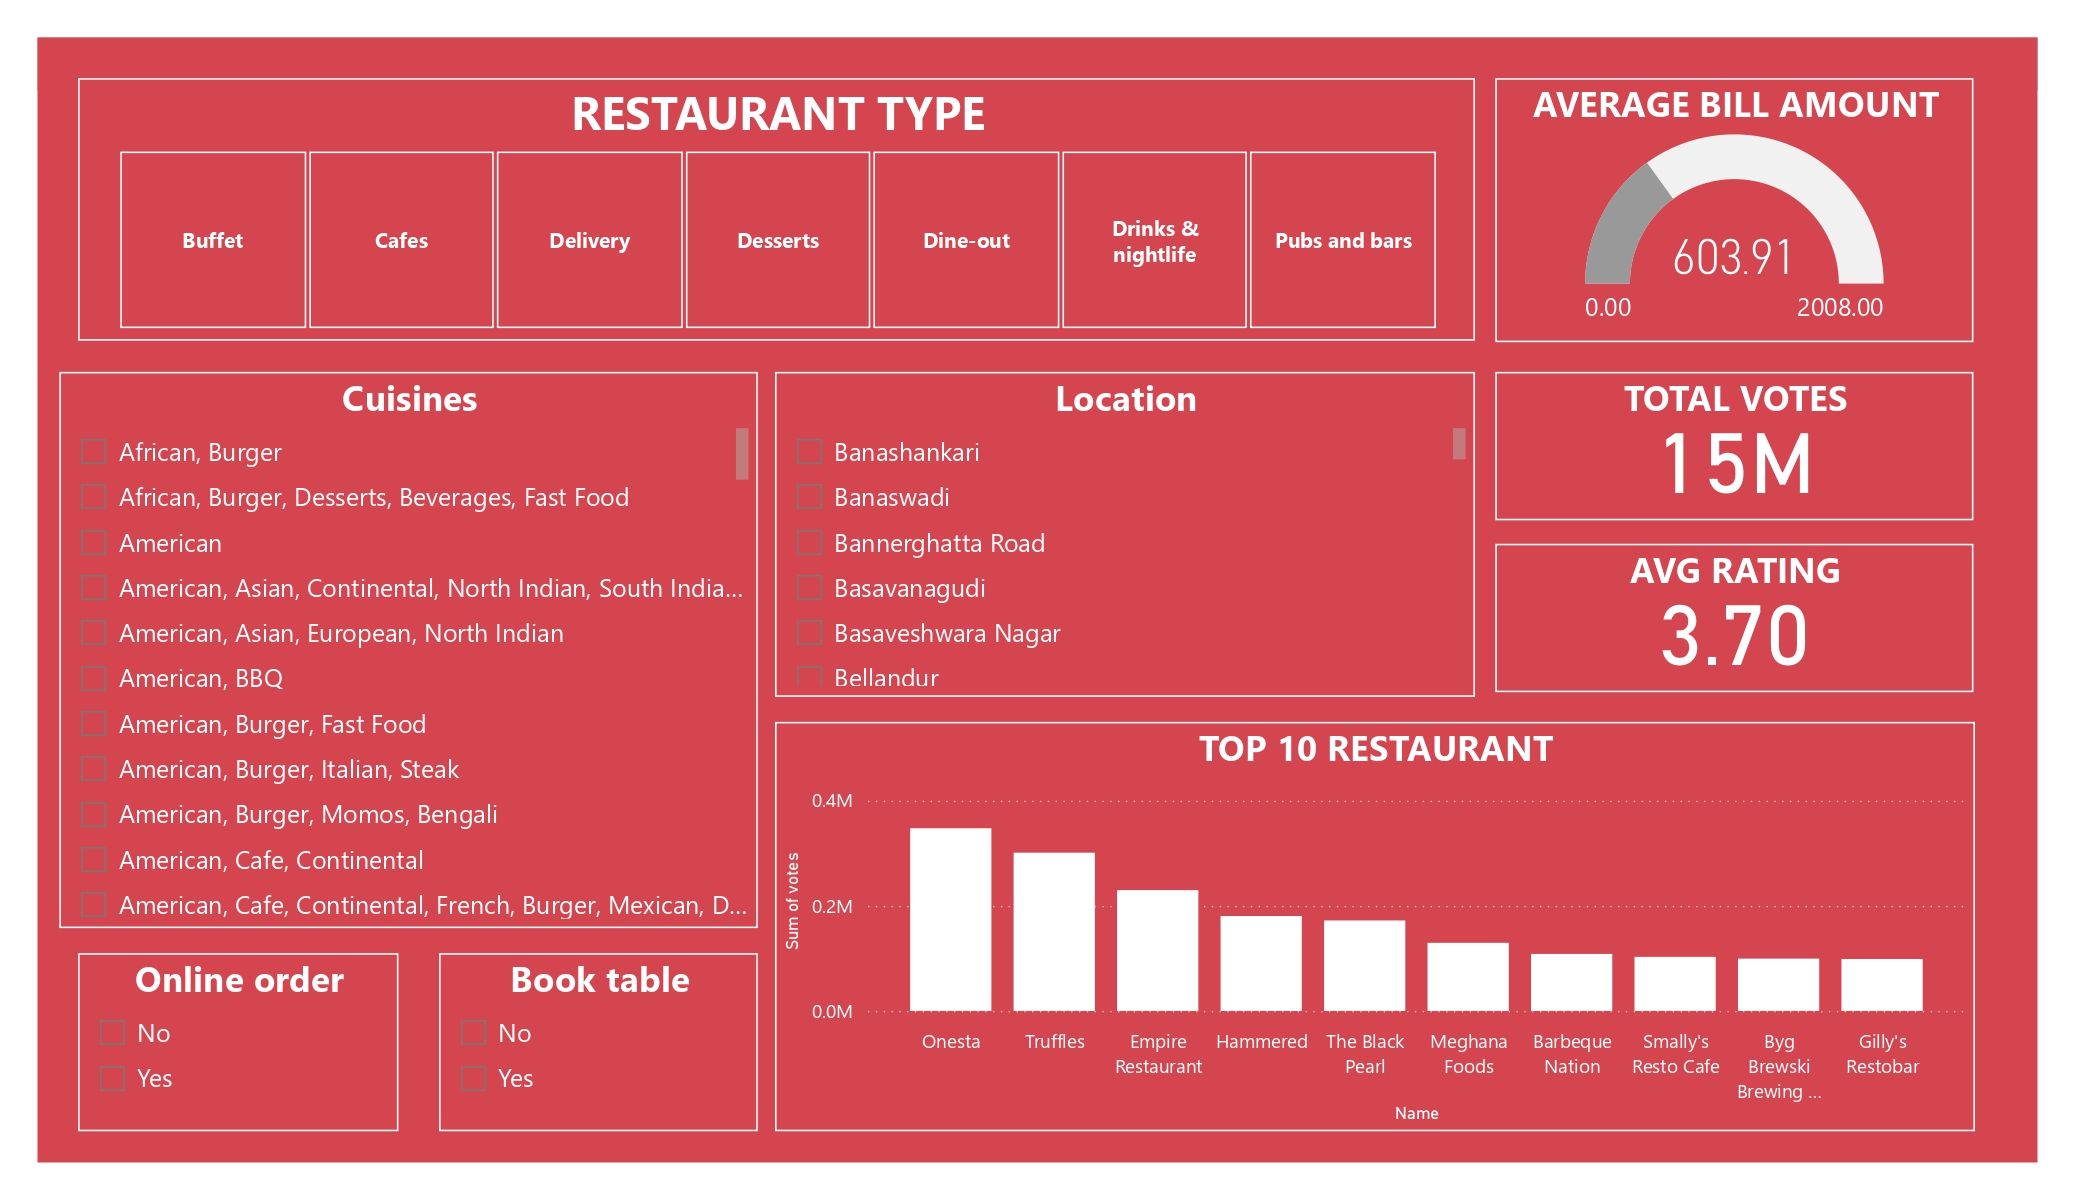

The page's visual inventory and layout, read from the dashboard file:
{"tool":"powerbi","page":{"name":"Page 1","canvas":[1280,720],"ordinal":0},"visuals":[{"type":"slicer","title":"RESTAURANT TYPE","fields":{"Values":["zomato.listed_in(type)"]},"box":[25.7,25.7,894.3,168.6],"z":0},{"type":"gauge","title":"AVERAGE BILL AMOUNT","fields":{"Y":["Avg(zomato.approx_cost(for two people))"]},"box":[932.5,26.1,306.3,168.9],"z":1000},{"type":"card","title":"TOTAL VOTES","fields":{"Values":["Sum(zomato.votes)"]},"box":[932.5,214.2,306.3,94.8],"z":2000},{"type":"card","title":"AVG RATING","fields":{"Values":["Avg(zomato.rate)"]},"box":[932.5,324.1,306.3,94.8],"z":3000},{"type":"columnChart","title":"TOP 10 RESTAURANT","fields":{"Category":["zomato.name"],"Y":["Sum(zomato.votes)"]},"box":[472.4,438.1,767.7,262.3],"z":4000},{"type":"slicer","title":"Online order","fields":{"Values":["zomato.online_order"]},"box":[26.1,586.4,204.6,114],"z":5000},{"type":"slicer","title":"Book table","fields":{"Values":["zomato.book_table"]},"box":[256.8,586.4,204.6,114],"z":6000},{"type":"slicer","title":"Location","fields":{"Values":["zomato.location"]},"box":[472.4,214.2,447.7,207.4],"z":7000},{"type":"slicer","title":"Cuisines","fields":{"Values":["zomato.cuisines"]},"box":[13.7,214.2,447.7,355.7],"z":8000}]}

Visuals, with their boxes in screenshot pixels (x1, y1, x2, y2):
"RESTAURANT TYPE" slicer: (78, 78, 1475, 341)
"AVERAGE BILL AMOUNT" gauge: (1495, 78, 1973, 342)
"TOTAL VOTES" card: (1495, 372, 1973, 520)
"AVG RATING" card: (1495, 544, 1973, 692)
"TOP 10 RESTAURANT" columnChart: (776, 722, 1975, 1132)
"Online order" slicer: (78, 954, 398, 1132)
"Book table" slicer: (439, 954, 758, 1132)
"Location" slicer: (776, 372, 1475, 696)
"Cuisines" slicer: (59, 372, 758, 928)
